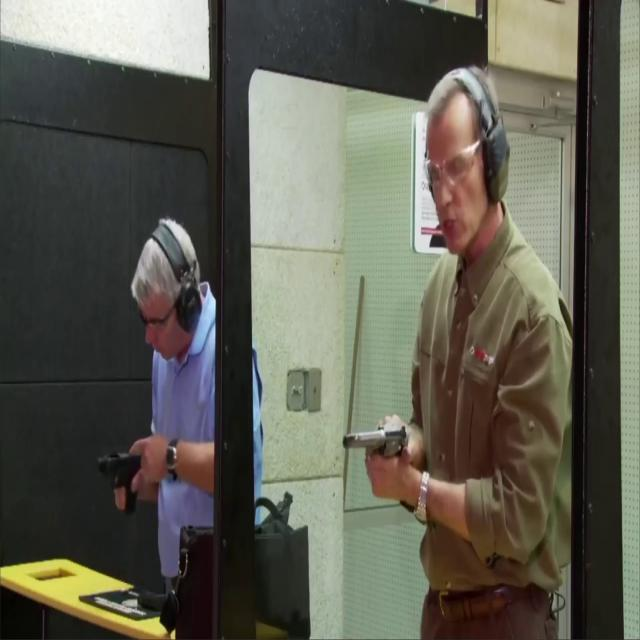gun: (343, 416, 411, 469), (95, 450, 143, 512)
